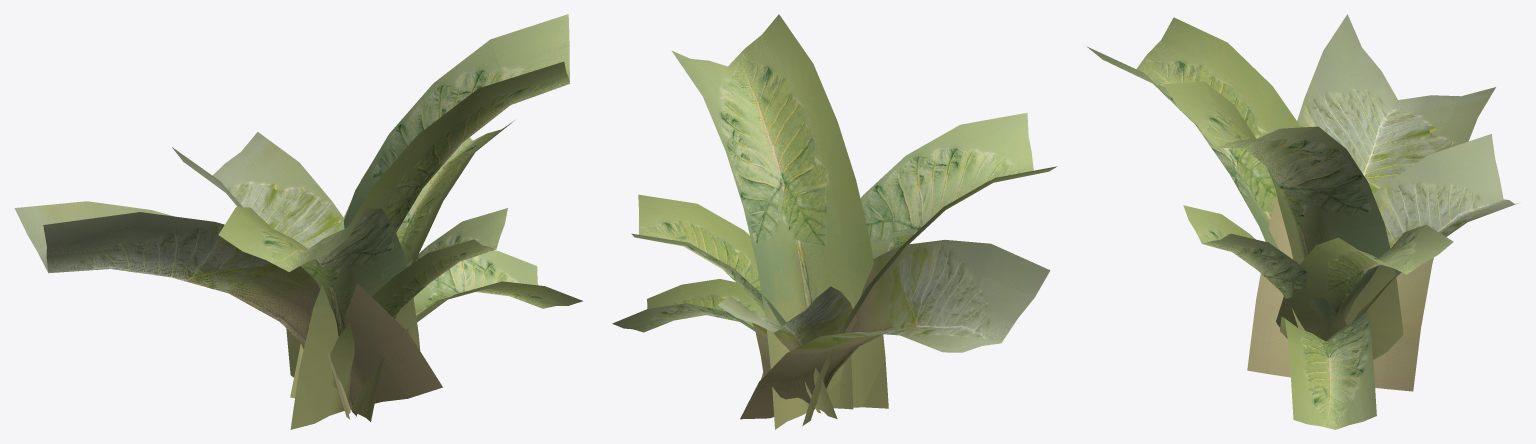
Rendered from Elephant_Ear_Terrain.fbx.
3 views of the same model, side by side, from view 1: azimuth 30°, elevation 25°; view 2: azimuth 150°, elevation 25°; view 3: azimuth 270°, elevation 25° (orthographic). The views are drawn at different scales.
Parts seen in each view (by area): view 1: Elephant_Ear_Terrain; view 2: Elephant_Ear_Terrain; view 3: Elephant_Ear_Terrain.
Boxes of the visible parts, x1,y1,x2,y2 form: Elephant_Ear_Terrain: (14, 14, 582, 429); Elephant_Ear_Terrain: (612, 14, 1056, 429); Elephant_Ear_Terrain: (1087, 14, 1518, 429).
Size of the model in its own units: 2.38 by 1.68 by 1.86.
